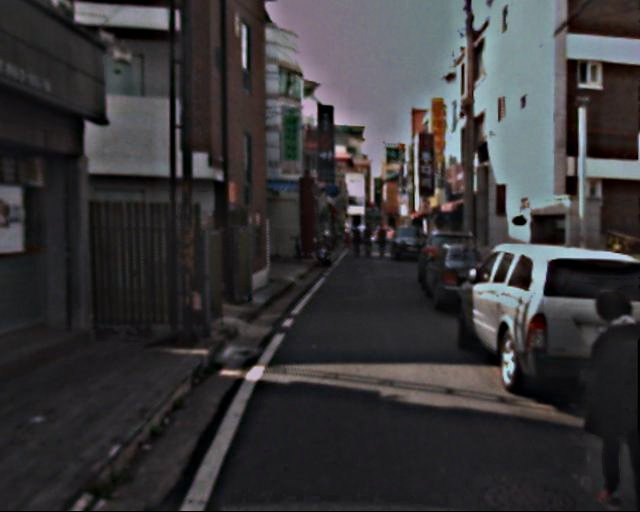person: (571, 288, 640, 511), (375, 226, 390, 263), (350, 225, 364, 260), (364, 227, 377, 258)
